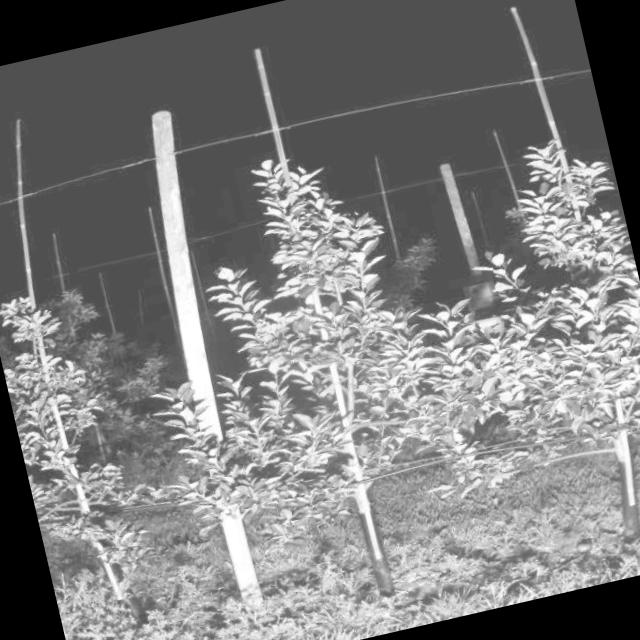Tree: (228, 134, 484, 621), (445, 135, 640, 539), (0, 280, 177, 625)
